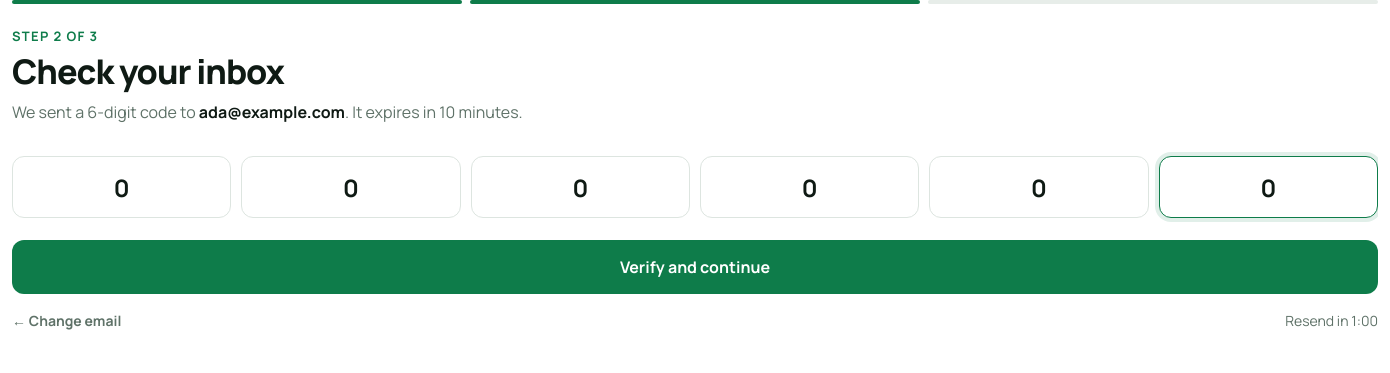
it: SignUpFlow › shows a rejected code inline
Click the button "Verify and continue". click: click(695, 267)
box: [12,240,1378,294]
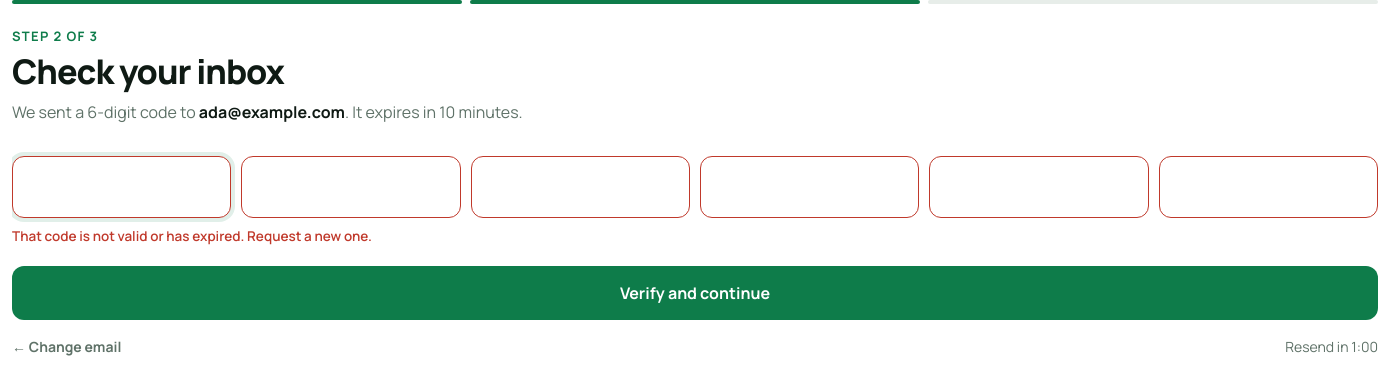
Now the message shows "That code is not valid or has expired", box [12,227,372,245]
